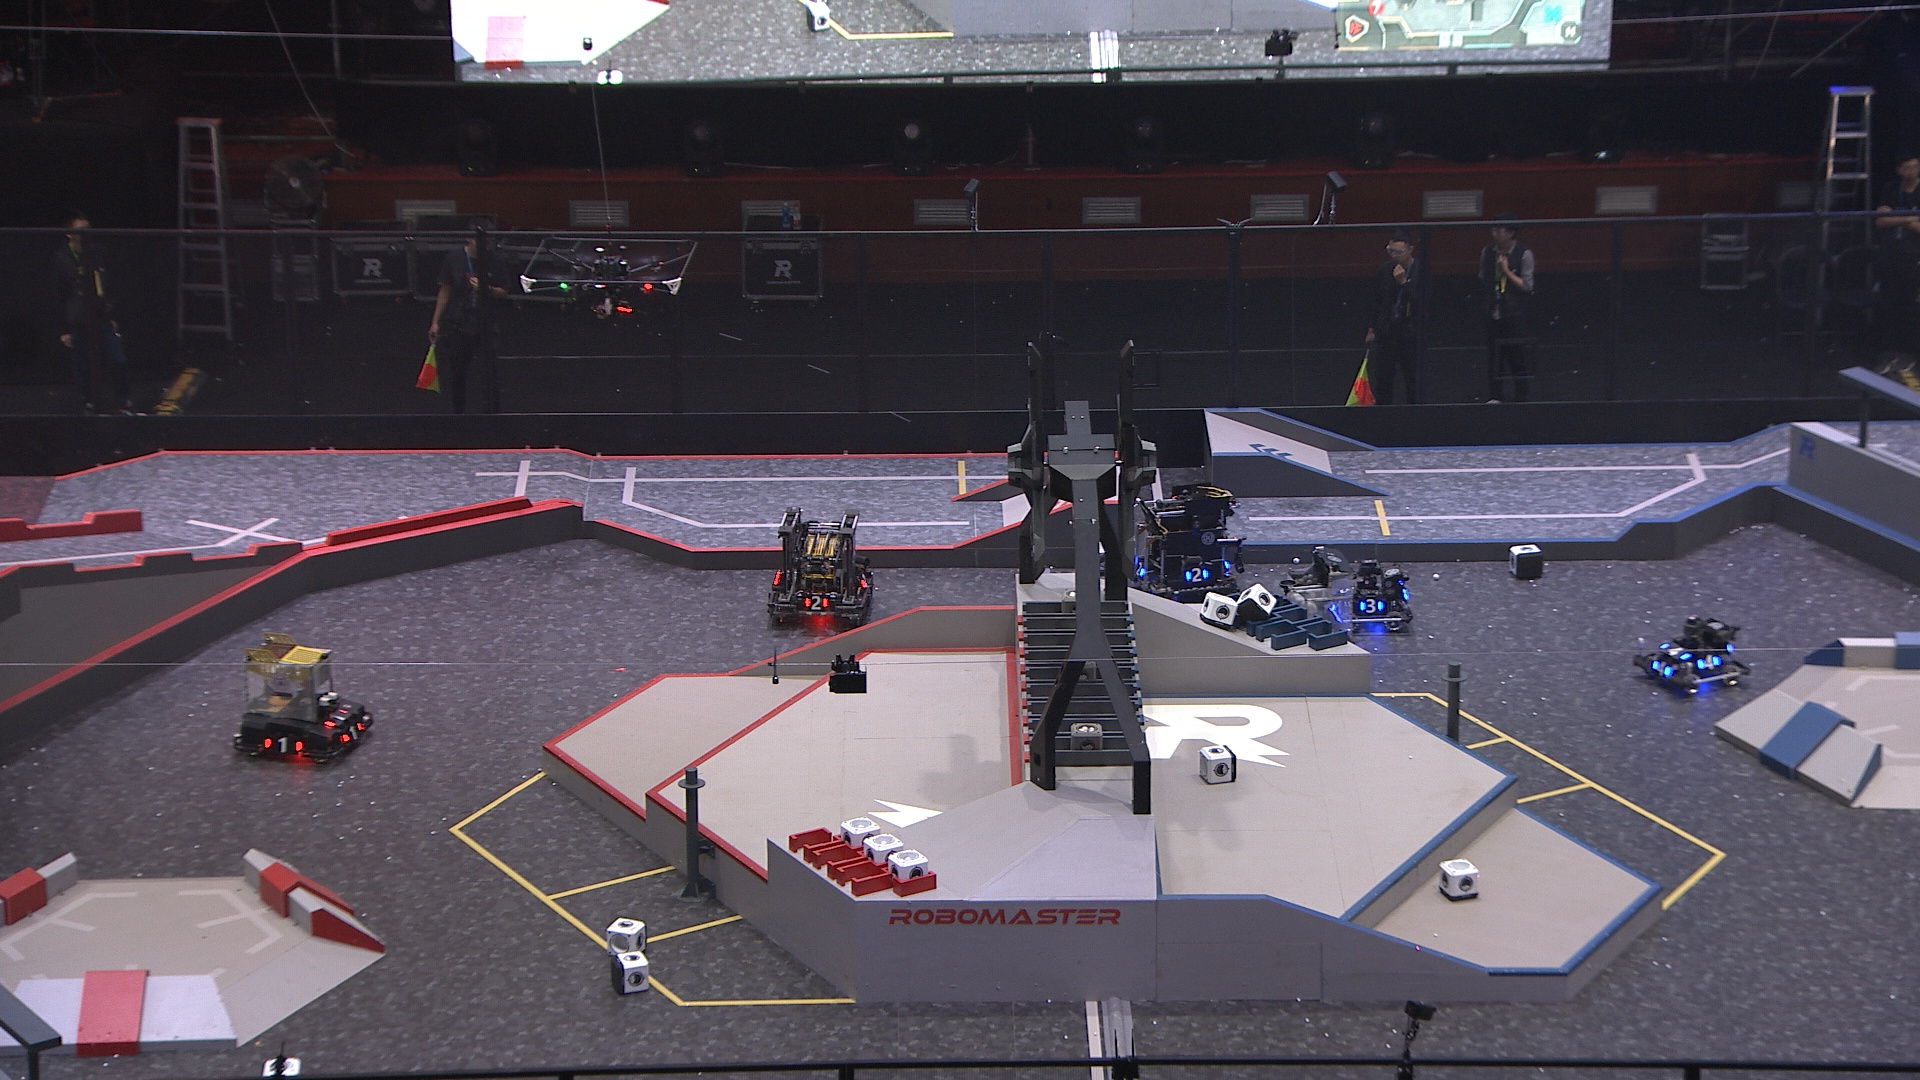armor: (261, 736, 302, 756), (342, 723, 365, 745), (1662, 641, 1689, 659), (800, 593, 828, 612), (1357, 597, 1386, 615), (323, 709, 351, 727), (1183, 567, 1209, 584), (1650, 659, 1673, 678), (1695, 655, 1721, 670), (1133, 559, 1147, 582), (858, 570, 870, 593)
car: (229, 632, 372, 764), (1121, 481, 1250, 611), (764, 505, 880, 633), (1269, 545, 1364, 659), (1636, 615, 1751, 698), (1333, 553, 1419, 637)
